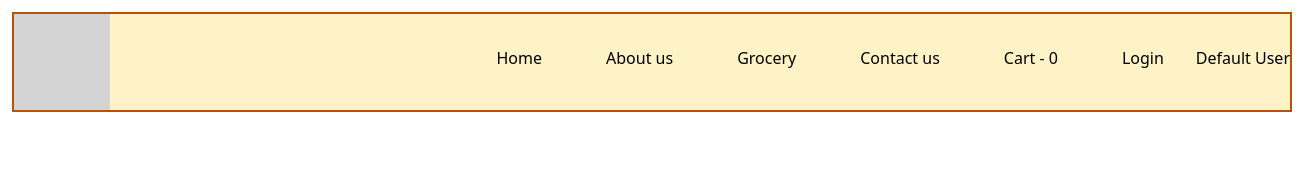
Test: Header component test › Should click on Login button and text should be change to Logout
This screenshot has width=1304, height=172.
What coordinates should you click on to do the following:
click the button
I would click on:
 (1143, 58)
Its box is [1106,30,1180,86].
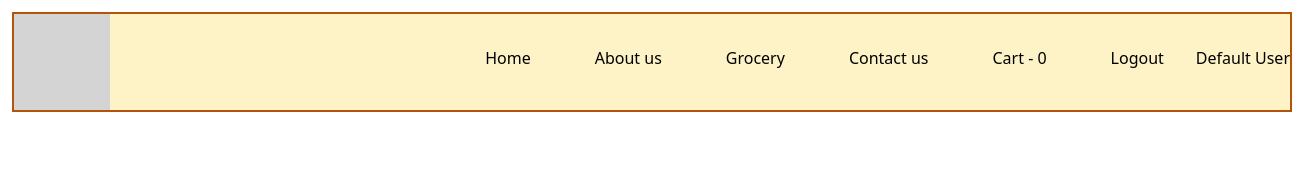
Expected: the button is shown, [1095,30,1180,86]
Now the button "Login" is gone
